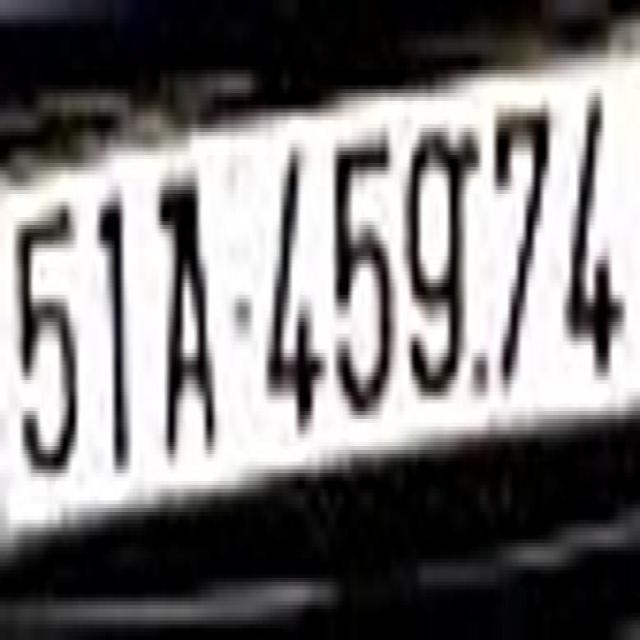1: (91, 155, 142, 493)
4: (564, 54, 624, 414), (264, 116, 324, 454)
5: (11, 128, 86, 496), (332, 109, 396, 454)
7: (492, 70, 555, 388)
9: (401, 85, 468, 423)
A: (153, 151, 220, 485)
